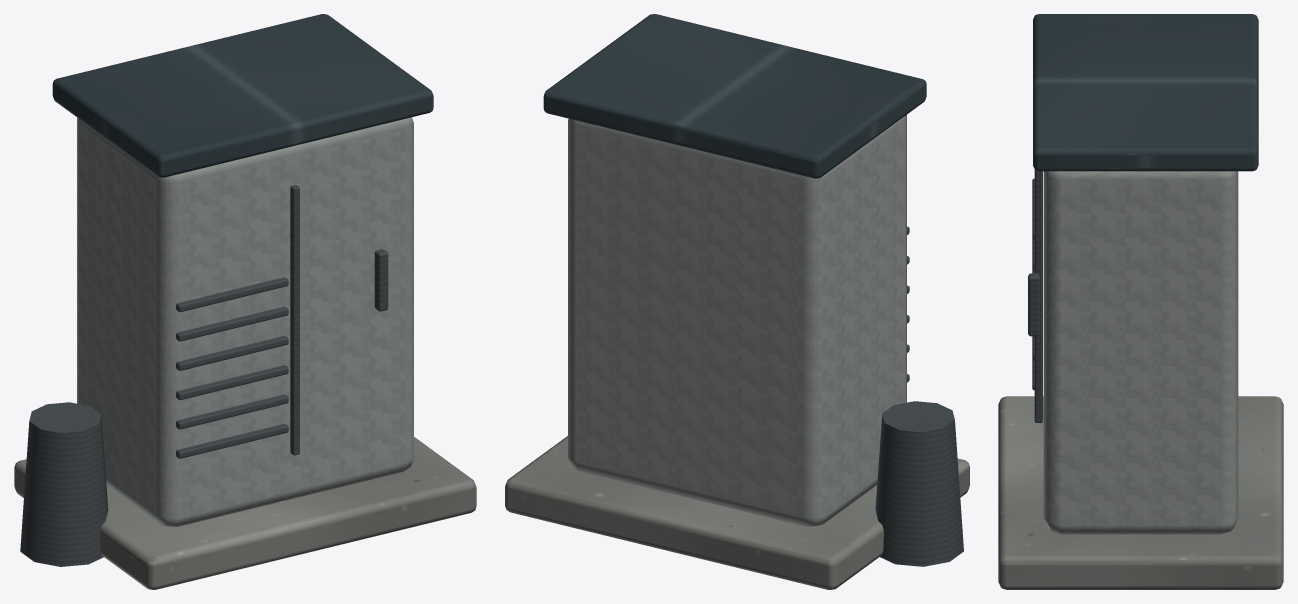
File: service-telecom-cabinet.lod0.gltf
3 views of the same model, side by side, from view 1: azimuth 30°, elevation 25°; view 2: azimuth 150°, elevation 25°; view 3: azimuth 270°, elevation 25° (orthographic). The views are drawn at different scales.
Visible parts, largest first — view 1: service-telecom-cabinet; view 2: service-telecom-cabinet; view 3: service-telecom-cabinet.
Part boxes in pixels (bbox=[...]): service-telecom-cabinet: bbox=[14, 14, 476, 589]; service-telecom-cabinet: bbox=[505, 14, 969, 589]; service-telecom-cabinet: bbox=[998, 14, 1283, 589].
Bounding box in the file's own units: 1.92 × 2 × 1.2.
4 materials, 4 textured.
